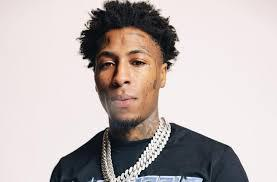quandale-dingle: (92, 25, 167, 128)
